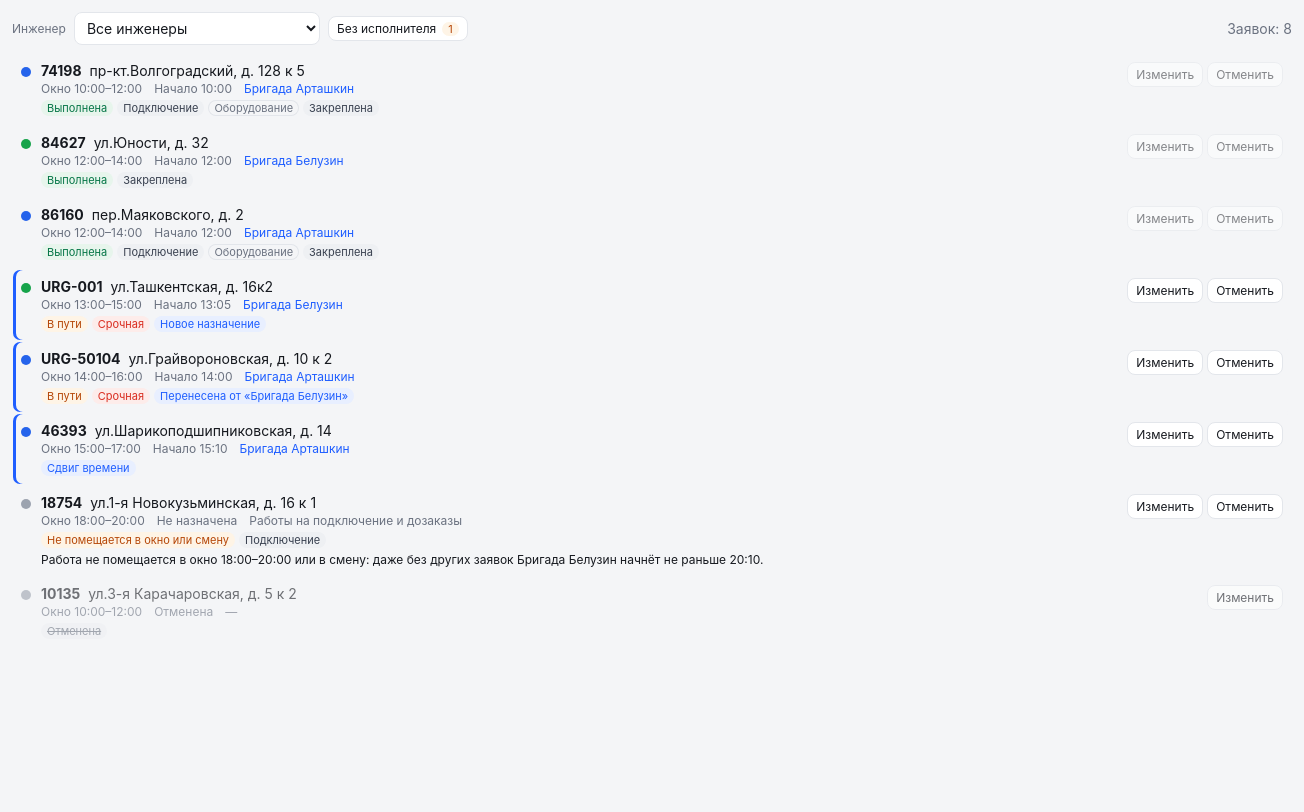
Test: CancelToast › names an urgent request of the day with the URG- prefix
Click the button "Отменить" in the row of "URG-50104" at [1245, 362], box 1207,350 -> 1283,375
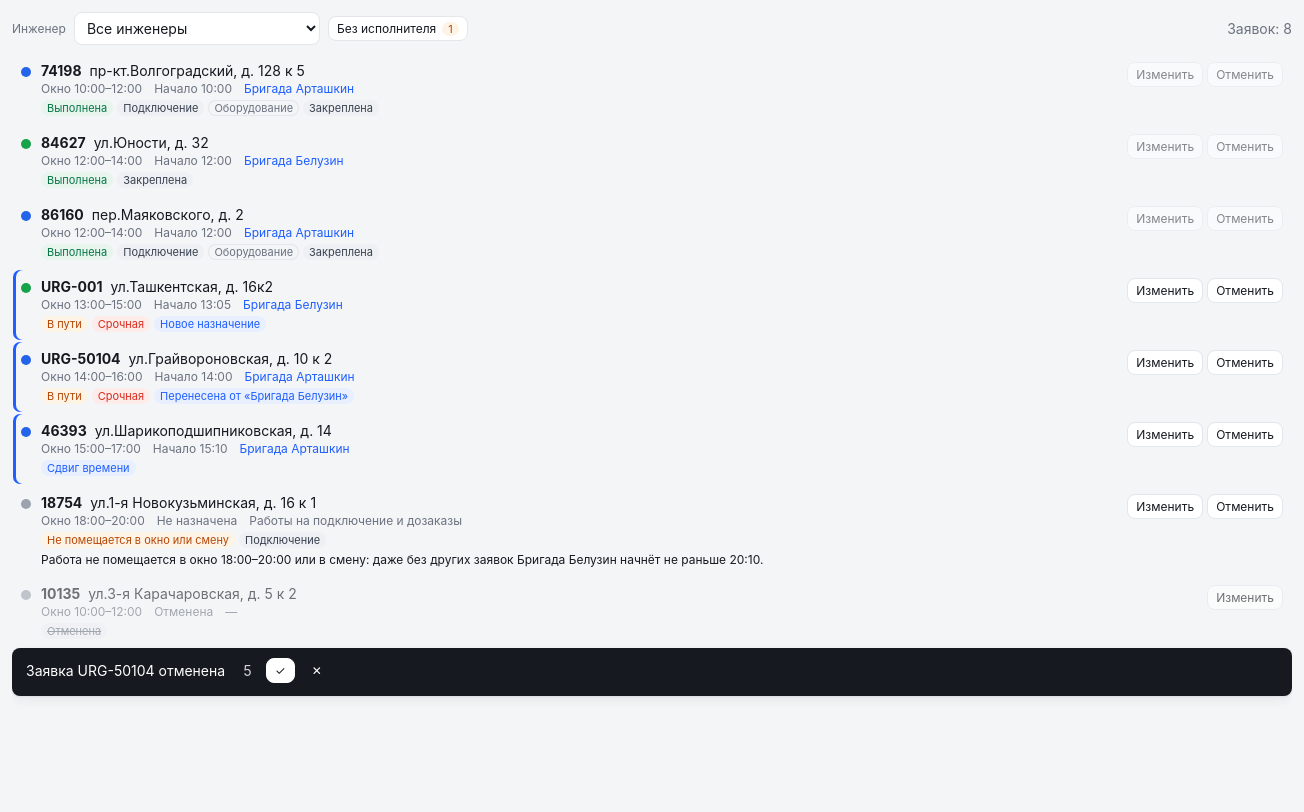
Check: the text "Заявка URG-50104 отменена" is shown, box 26,662 -> 225,679
